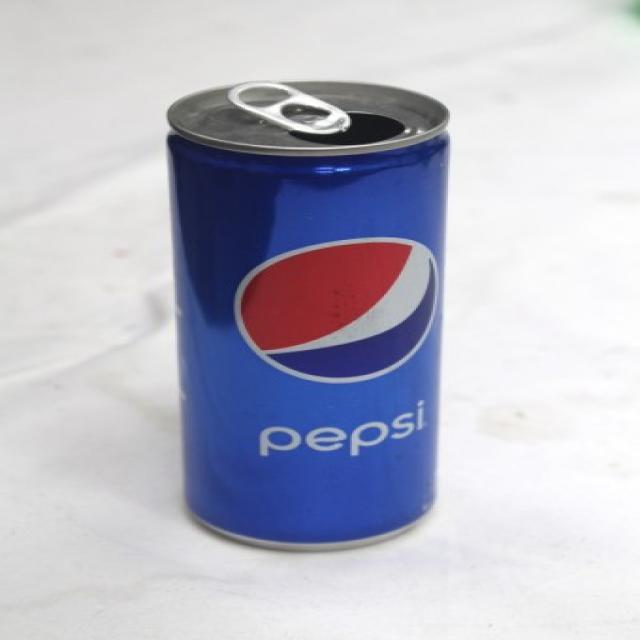can: (164, 79, 453, 552)
